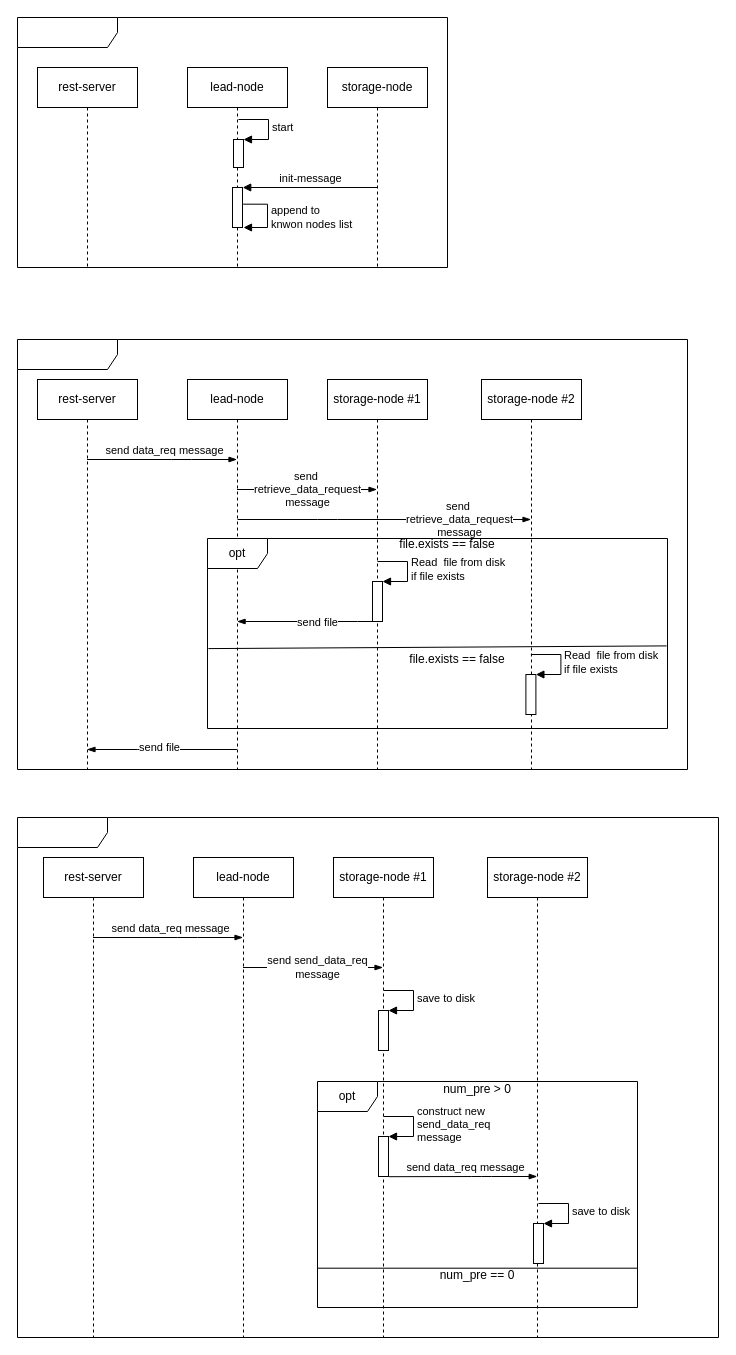
The diagram is 736 pixels wide and 1355 high, and some of its shapes have lost their labels. Here are the shapes that lost their labels. From the top down, the centre of each, then its label:
At point 232,142: "SEQ System init".
At point 352,554: "SEQ Retrive file".
At point 367,1077: "SEQ Store file".
